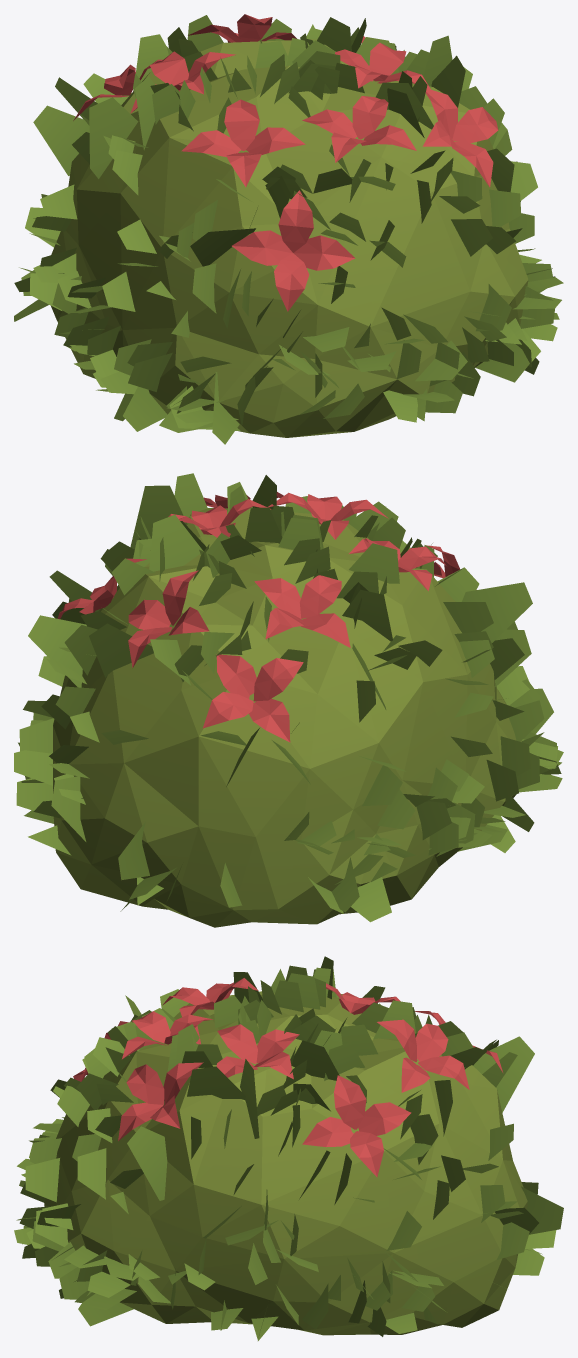
File: Plant_11.fbx
3 views of the same model, one above another, from view 1: azimuth 30°, elevation 25°; view 2: azimuth 150°, elevation 25°; view 3: azimuth 270°, elevation 25° (orthographic). The views are drawn at different scales.
Visible parts, largest first — view 1: Plant_11_LOD0; view 2: Plant_11_LOD0; view 3: Plant_11_LOD0.
Part boxes in pixels (x1,y1,x2,y2): Plant_11_LOD0: [14, 14, 563, 444]; Plant_11_LOD0: [14, 473, 563, 927]; Plant_11_LOD0: [14, 956, 563, 1340].
Size of what is drawn, in the model's own units: 0.8678 by 0.6032 by 1.01.
